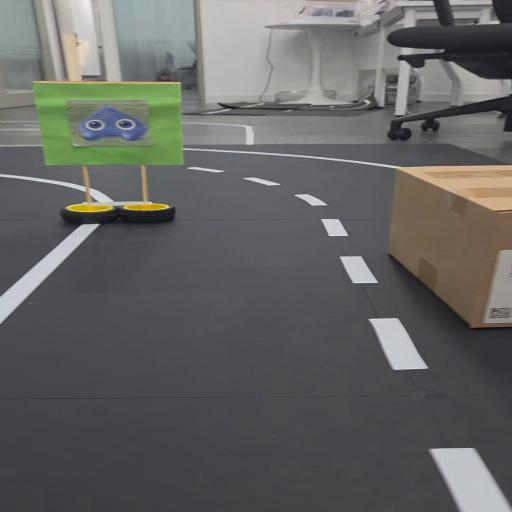Sign_B: (28, 77, 190, 226)
